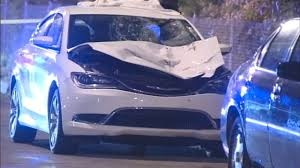Broken-glass: (115, 18, 195, 45)
Dent: (65, 40, 225, 87)
